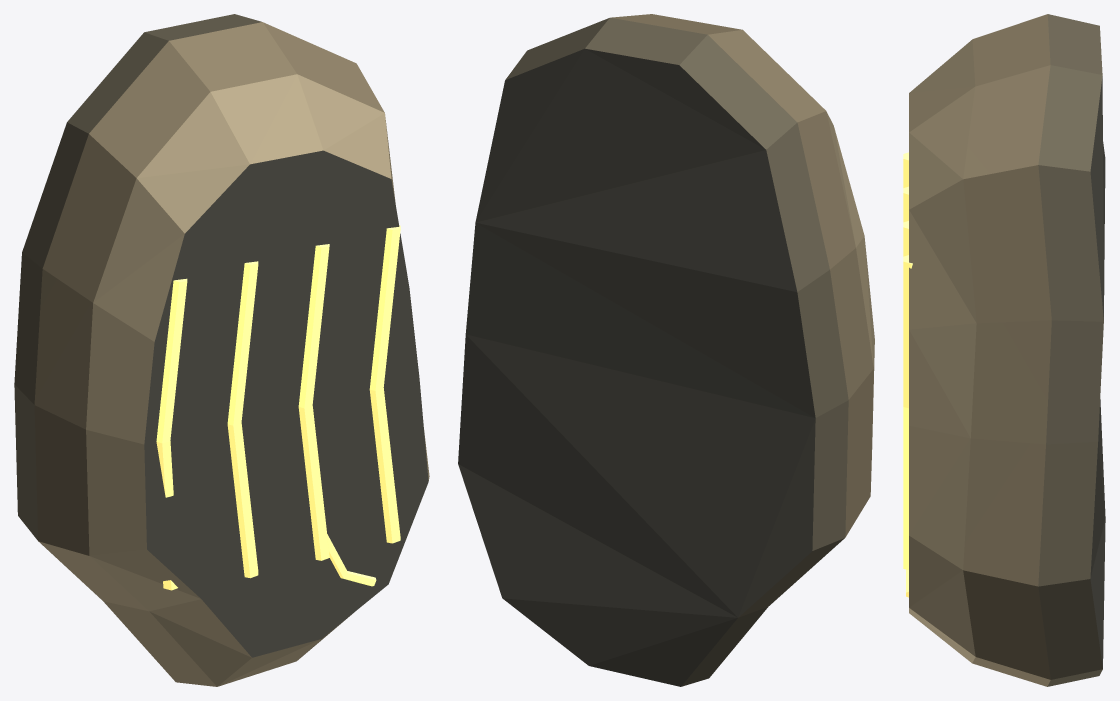
Rendered from FERNSTONE_CHIME.hi.glb.
3 renders of one model, left to right at view 1: azimuth 30°, elevation 25°; view 2: azimuth 150°, elevation 25°; view 3: azimuth 270°, elevation 25°, orthographic. The views are drawn at different scales.
Visible parts, largest first — view 1: Body_Mesh; view 2: Body_Mesh; view 3: Body_Mesh.
Part boxes in pixels (bbox=[...]): Body_Mesh: bbox=[14, 14, 429, 686]; Body_Mesh: bbox=[458, 14, 874, 686]; Body_Mesh: bbox=[903, 14, 1105, 686].
Size of the model in its own units: 0.2173 by 0.3608 by 0.1048.
1 material, 1 textured.
